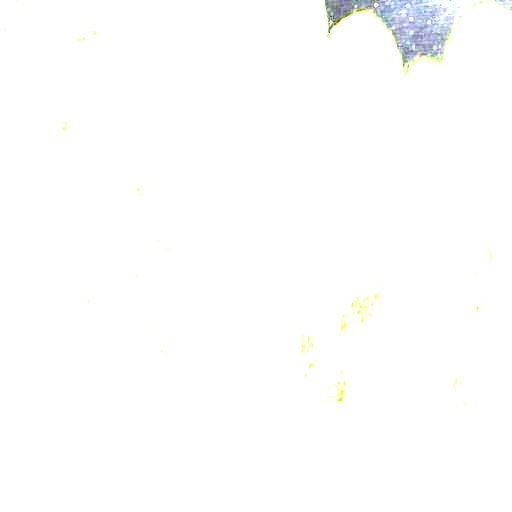Angular Leafspot: (368, 0, 511, 511)
